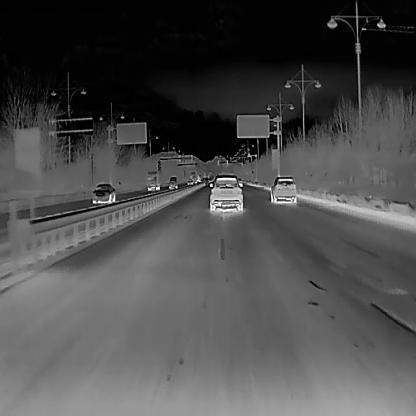car: (208, 173, 243, 211), (269, 175, 296, 202), (92, 183, 115, 204), (146, 170, 159, 190), (169, 175, 176, 188)
